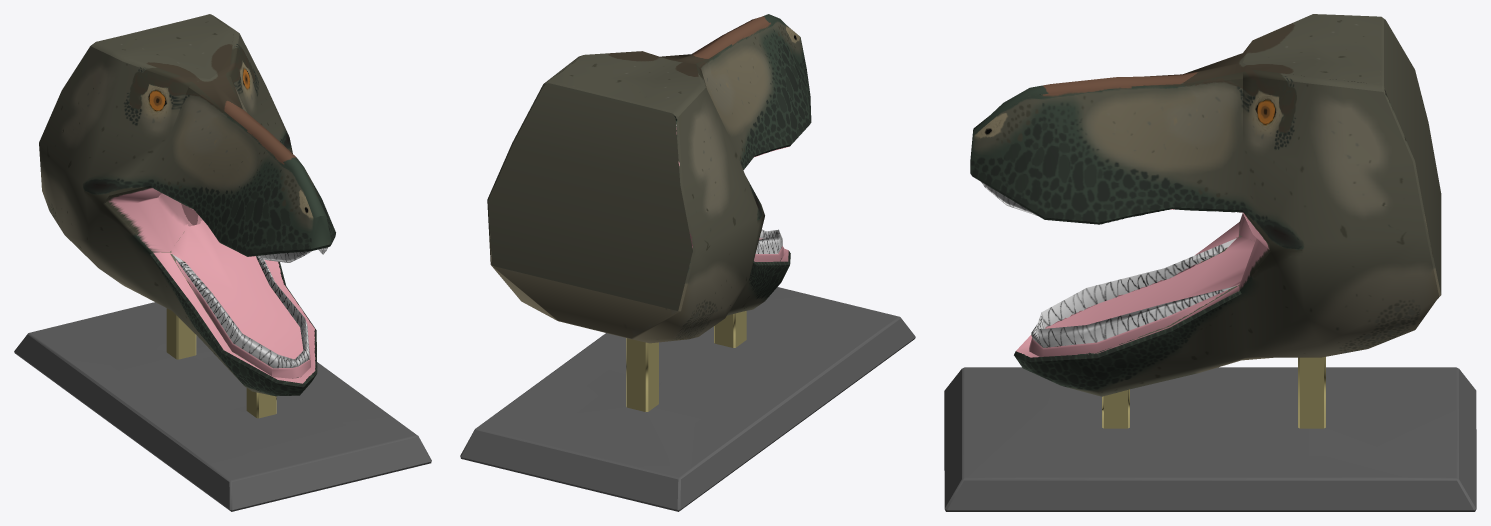
File: Figure.fbx
3 views of the same model, side by side, from view 1: azimuth 30°, elevation 25°; view 2: azimuth 150°, elevation 25°; view 3: azimuth 270°, elevation 25° (orthographic). The views are drawn at different scales.
Parts seen in each view (by area): view 1: polySurface1; view 2: polySurface1; view 3: polySurface1.
Part boxes in pixels (x1=…): polySurface1: x1=14, y1=14, x2=431, y2=511; polySurface1: x1=460, y1=14, x2=915, y2=511; polySurface1: x1=944, y1=14, x2=1476, y2=511.
Bounding box in the file's own units: 9.62 × 14.96 × 17.73.
3 materials, 1 textured.
